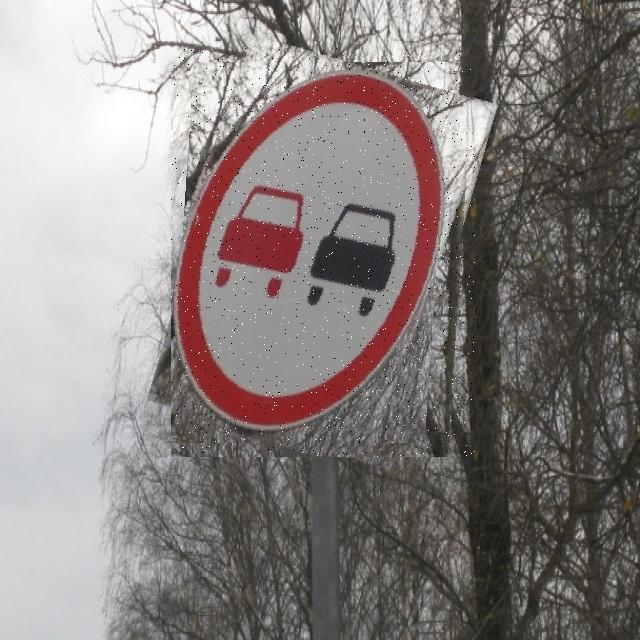no overtaking: (171, 48, 475, 457)
